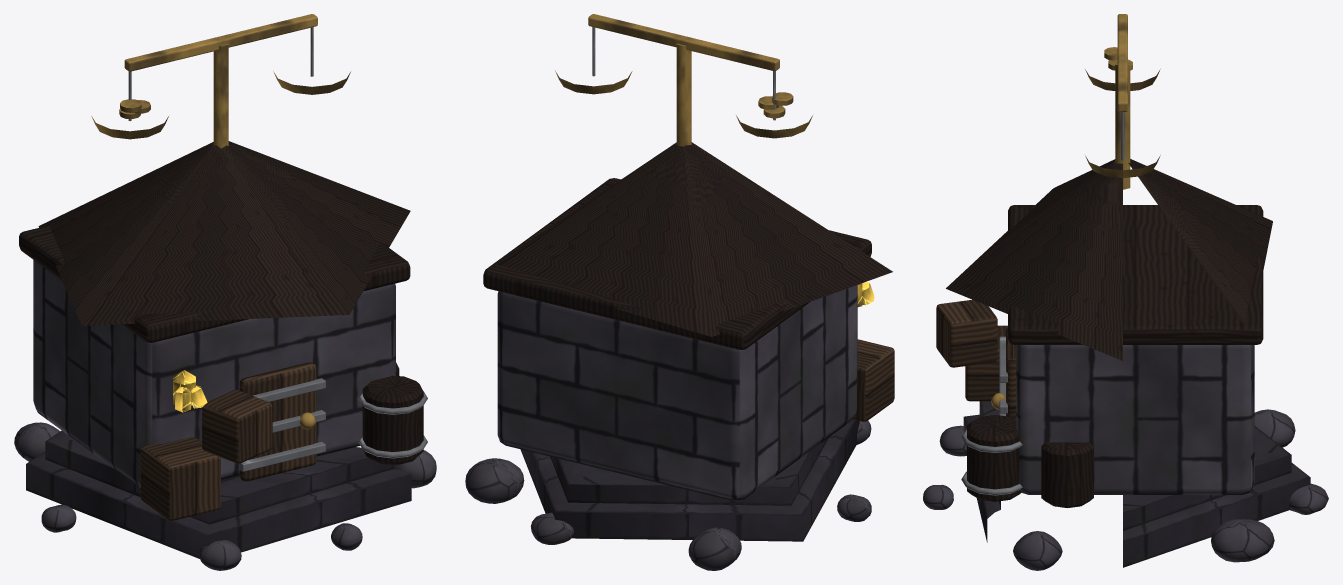
The model's file is bank.glb.
The picture shows the model from 3 angles, left to right: view 1: azimuth 30°, elevation 25°; view 2: azimuth 150°, elevation 25°; view 3: azimuth 270°, elevation 25°; orthographic projection. The views are drawn at different scales.
Visible parts, largest first — view 1: Base, Beam, Turret; view 2: Base, Beam, Turret; view 3: Base, Beam, Turret.
Boxes of the visible parts, box(x1,y1,x2,y2) form: Base: box(14, 141, 436, 570); Beam: box(91, 14, 350, 139); Turret: box(213, 43, 228, 148); Base: box(465, 142, 894, 570); Beam: box(555, 14, 812, 138); Turret: box(676, 43, 691, 146); Base: box(923, 159, 1328, 570); Beam: box(1085, 14, 1160, 178); Turret: box(1115, 60, 1130, 189).
Bounding box in the file's own units: 0.9813 × 1.15 × 0.954.
8 materials, 8 textured.
